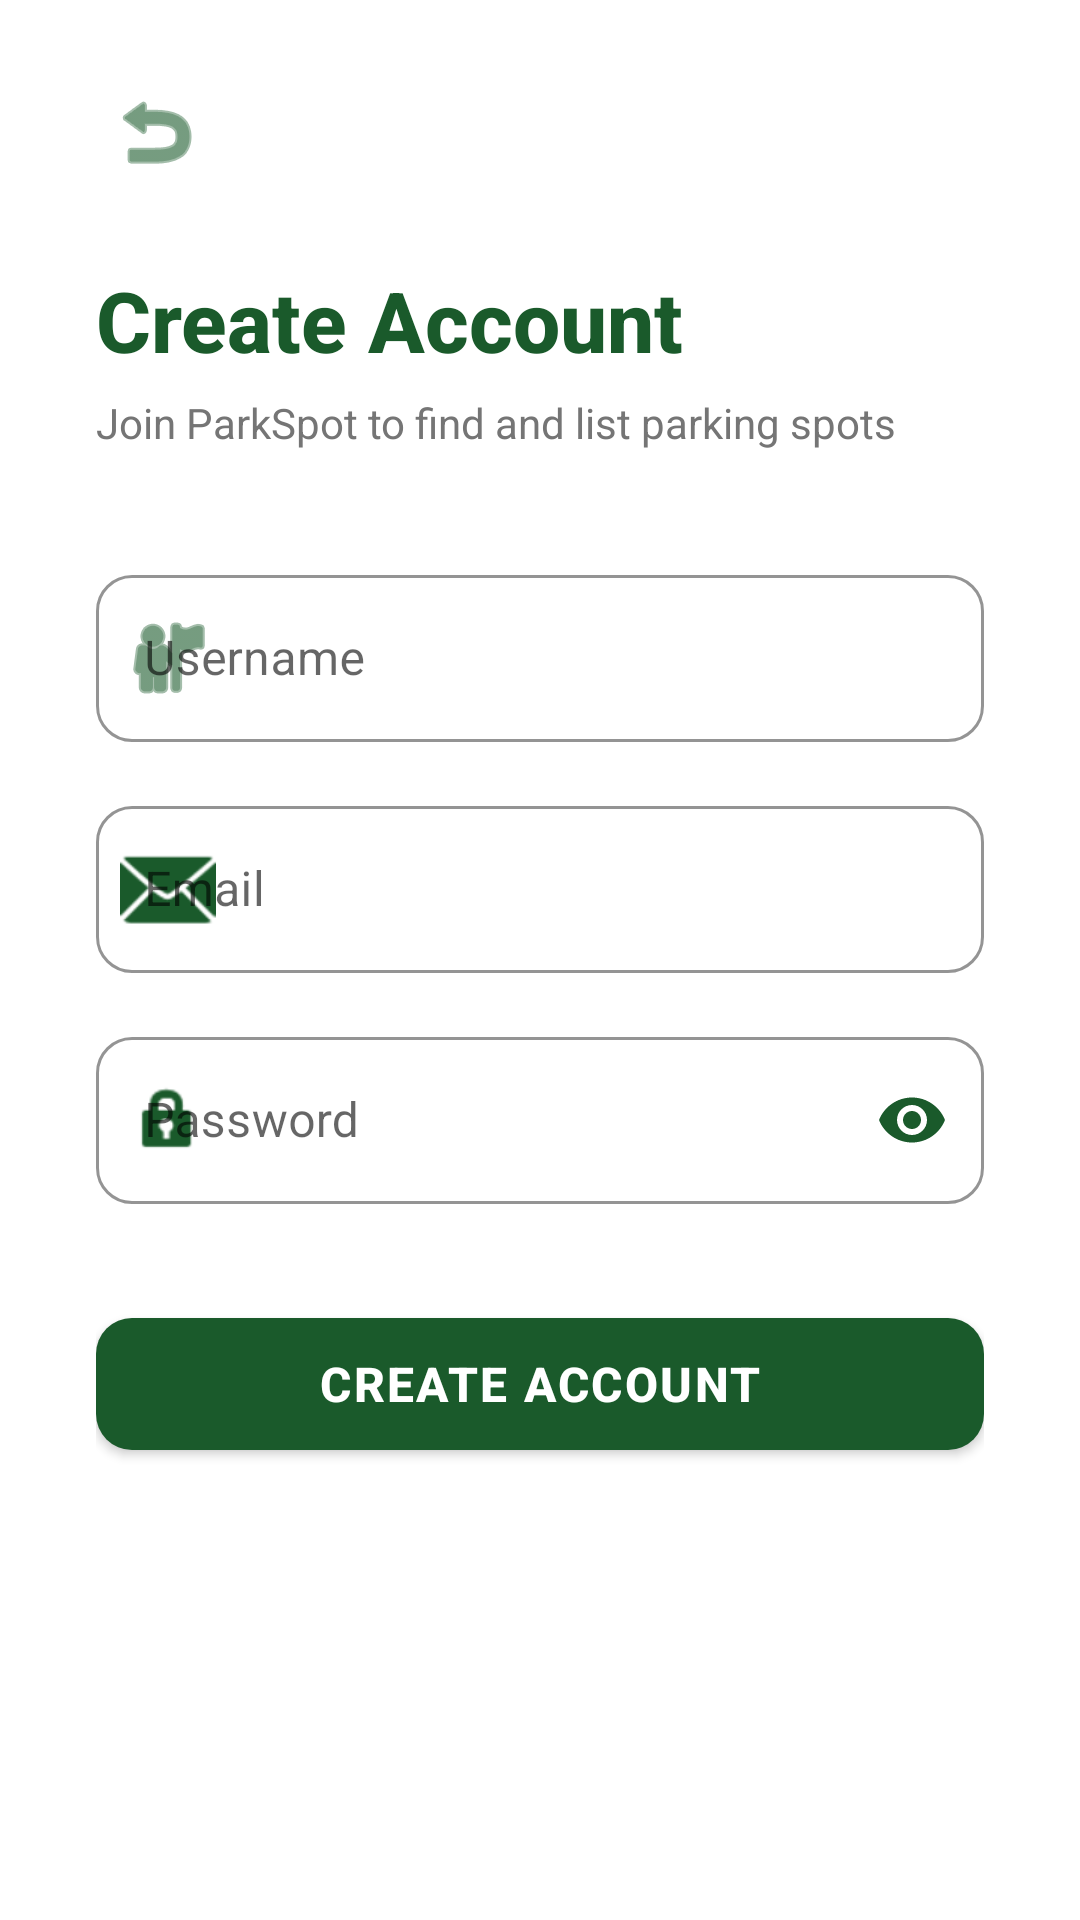

Icons on this 1080w x 1920h Android screen, each with its box as (x1, y1, x2, y2):
Go back: (123, 101, 192, 164)
